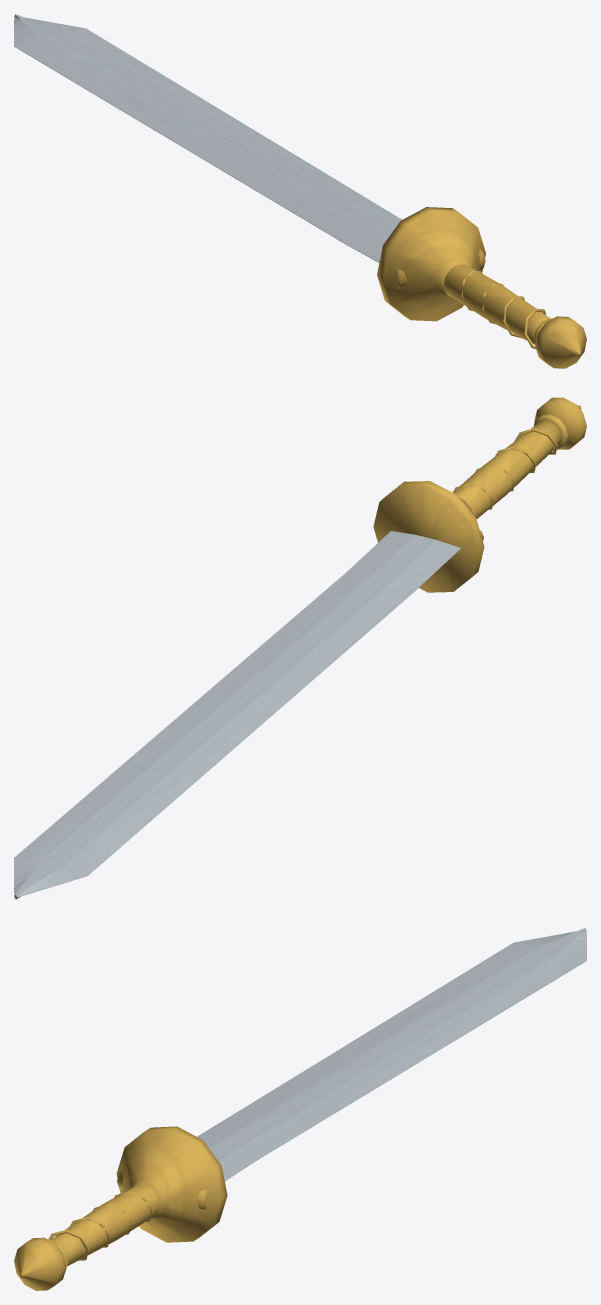
File: item_item014.glb
3 renders of one model, top to bottom at view 1: azimuth 30°, elevation 25°; view 2: azimuth 150°, elevation 25°; view 3: azimuth 330°, elevation 25°, orthographic.
Visible parts, largest first — view 1: swords_item014; view 2: swords_item014; view 3: swords_item014.
Boxes of the visible parts, x1=… form: swords_item014: x1=14, y1=14, x2=586, y2=368; swords_item014: x1=14, y1=397, x2=586, y2=899; swords_item014: x1=14, y1=928, x2=586, y2=1290.
Bounding box in the file's own units: 0.1461 × 0.1474 × 1.37.
Materials: 1 (1 with a texture image).
